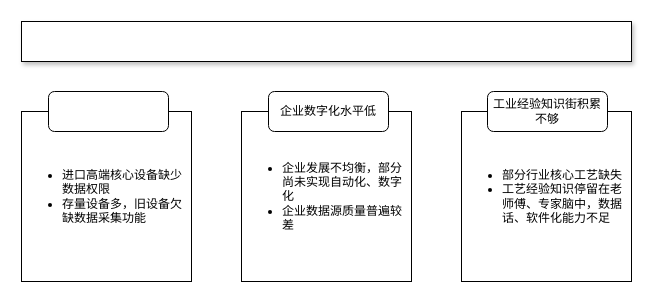
This 655x299 diagram has some shape labels left out. The centre of each missing label's shape, as x and y in pixels:
"三类基础因素制约着我国工业互联网平台的发展。" goes at point 327,42.
"设备数据采集难" goes at point 108,111.
